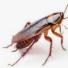cockroach: (12, 12, 64, 50)
